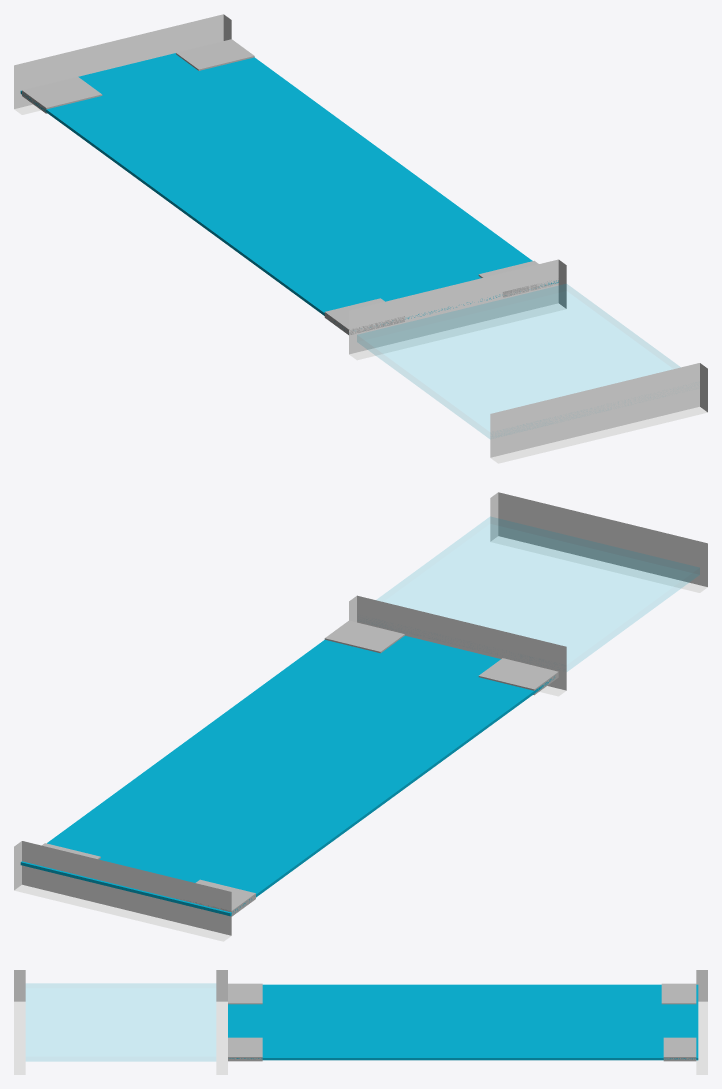
3 views of the same model, one above another, from view 1: azimuth 30°, elevation 25°; view 2: azimuth 150°, elevation 25°; view 3: azimuth 270°, elevation 25° (orthographic). The views are drawn at different scales.
Parts seen in each view (by area): view 1: 0_0_2_2_2_1_2_3_0_2; view 2: 0_0_2_2_2_1_2_3_0_2; view 3: 0_0_2_2_2_1_2_3_0_2.
Boxes of the visible parts, x1,y1,x2,y2 form: 0_0_2_2_2_1_2_3_0_2: (14,14,707,463); 0_0_2_2_2_1_2_3_0_2: (14,492,707,941); 0_0_2_2_2_1_2_3_0_2: (14,970,707,1074).
Size of the model in its own units: 0.75 by 0.15 by 3.
